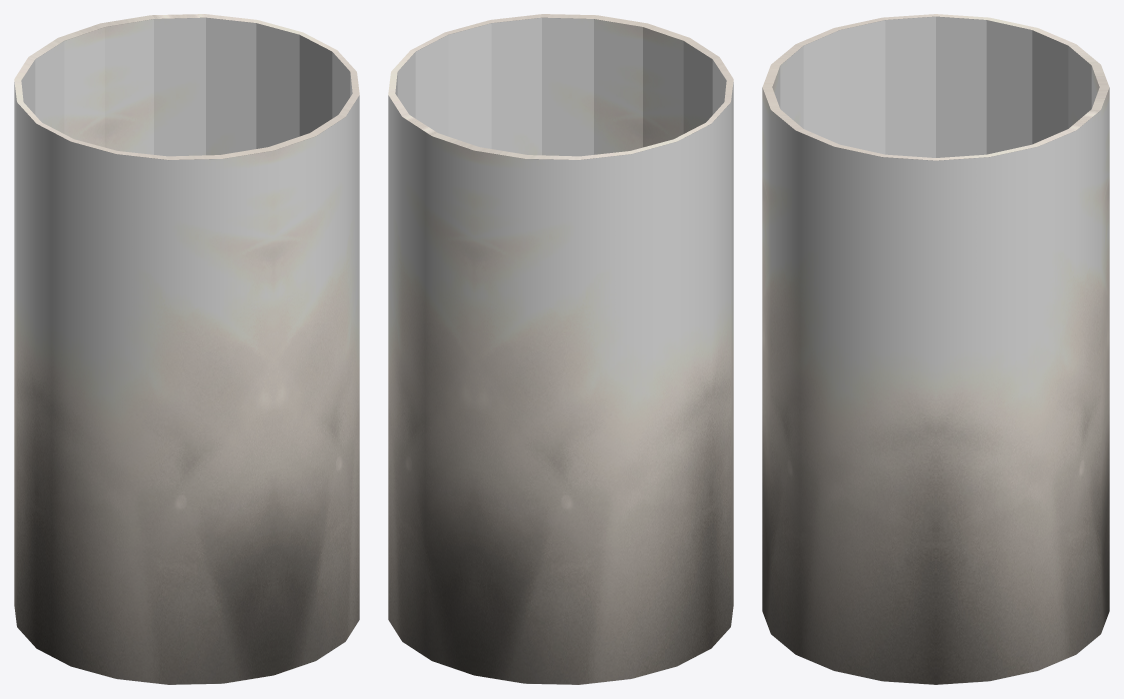
The model's file is entrance_rays_GEO_01.fbx.
The picture shows the model from 3 angles, left to right: view 1: azimuth 30°, elevation 25°; view 2: azimuth 150°, elevation 25°; view 3: azimuth 270°, elevation 25°; orthographic projection.
Parts seen in each view (by area): view 1: pCylinder1; view 2: pCylinder1; view 3: pCylinder1.
Boxes of the visible parts, x1,y1,x2,y2 form: pCylinder1: [14, 14, 359, 684]; pCylinder1: [388, 14, 733, 684]; pCylinder1: [762, 14, 1109, 684].
Size of the model in its own units: 1.8 by 3 by 1.8.
Materials: 1 (1 with a texture image).
